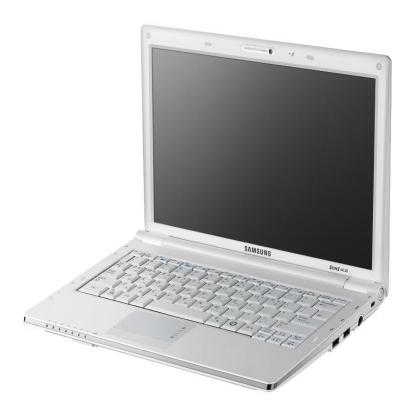board: (22, 19, 390, 394)
